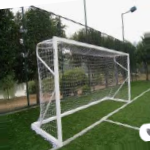goals: (29, 36, 132, 145)
